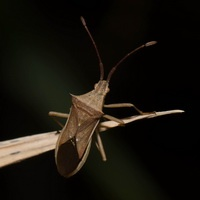insect: (0, 16, 183, 177)
